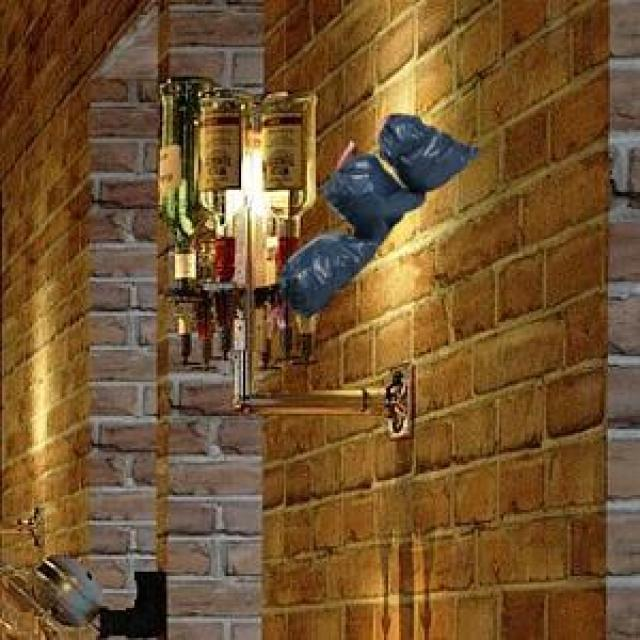miscellaneous trash: (275, 111, 478, 314)
